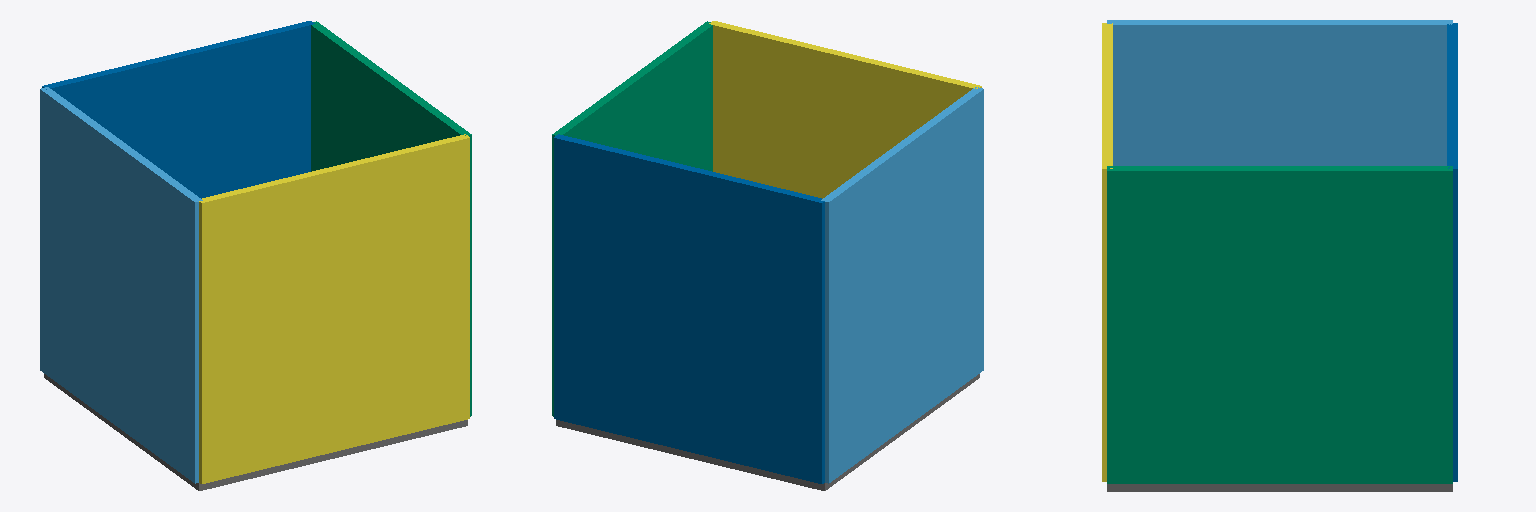
URDF robot description (container):
<?xml version="1.0"?>
<robot name="container">
  <!-- Base -->
  <link name="base">
    <visual>
      <origin xyz="0 0 -0.005"/>
      <geometry>
        <box size="0.32 0.32 0.01"/>
      </geometry>
      <material name="gray">
        <color rgba="0.5 0.5 0.5 1"/>
      </material>
    </visual>
    <collision>
      <origin xyz="0 0 -0.005"/>
      <geometry>
        <box size="0.32 0.32 0.01"/>
      </geometry>
    </collision>
    <inertial>
      <mass value="0.0"/>
      <inertia ixx="0" ixy="0" ixz="0" iyy="0" iyz="0" izz="0"/>
    </inertial>
  </link>

  <!-- Pared X- -->
  <link name="wall_x0">
    <visual>
      <origin xyz="-0.16 0 0.16"/>
      <geometry>
        <box size="0.01 0.32 0.32"/>
      </geometry>
    </visual>
    <collision>
      <origin xyz="-0.16 0 0.16"/>
      <geometry>
        <box size="0.01 0.32 0.32"/>
      </geometry>
    </collision>
    <inertial><mass value="0.0"/><inertia ixx="0" ixy="0" ixz="0" iyy="0" iyz="0" izz="0"/></inertial>
  </link>

  <!-- Pared X+ -->
  <link name="wall_x1">
    <visual>
      <origin xyz="0.16 0 0.16"/>
      <geometry>
        <box size="0.01 0.32 0.32"/>
      </geometry>
    </visual>
    <collision>
      <origin xyz="0.16 0 0.16"/>
      <geometry>
        <box size="0.01 0.32 0.32"/>
      </geometry>
    </collision>
    <inertial><mass value="0.0"/><inertia ixx="0" ixy="0" ixz="0" iyy="0" iyz="0" izz="0"/></inertial>
  </link>

  <!-- Pared Y- -->
  <link name="wall_y0">
    <visual>
      <origin xyz="0 -0.16 0.16"/>
      <geometry>
        <box size="0.32 0.01 0.32"/>
      </geometry>
    </visual>
    <collision>
      <origin xyz="0 -0.16 0.16"/>
      <geometry>
        <box size="0.32 0.01 0.32"/>
      </geometry>
    </collision>
    <inertial><mass value="0.0"/><inertia ixx="0" ixy="0" ixz="0" iyy="0" iyz="0" izz="0"/></inertial>
  </link>

  <!-- Pared Y+ -->
  <link name="wall_y1">
    <visual>
      <origin xyz="0 0.16 0.16"/>
      <geometry>
        <box size="0.32 0.01 0.32"/>
      </geometry>
    </visual>
    <collision>
      <origin xyz="0 0.16 0.16"/>
      <geometry>
        <box size="0.32 0.01 0.32"/>
      </geometry>
    </collision>
    <inertial><mass value="0.0"/><inertia ixx="0" ixy="0" ixz="0" iyy="0" iyz="0" izz="0"/></inertial>
  </link>

  <!-- Joints -->
  <joint name="joint_x0" type="fixed">
    <parent link="base"/>
    <child link="wall_x0"/>
  </joint>
  <joint name="joint_x1" type="fixed">
    <parent link="base"/>
    <child link="wall_x1"/>
  </joint>
  <joint name="joint_y0" type="fixed">
    <parent link="base"/>
    <child link="wall_y0"/>
  </joint>
  <joint name="joint_y1" type="fixed">
    <parent link="base"/>
    <child link="wall_y1"/>
  </joint>
</robot>

--- Facts derived from the render (not from the file) ---
Views: 3 orthographic renders of the robot side by side, from view 1: azimuth 30°, elevation 25°; view 2: azimuth 150°, elevation 25°; view 3: azimuth 270°, elevation 25°.
Model container with 5 links and 4 joints (4 fixed), rooted at base, posed every joint at zero.
Visible links, largest first — view 1: wall_y0, wall_x0, wall_y1, wall_x1, base; view 2: wall_y1, wall_x0, wall_y0, wall_x1, base; view 3: wall_x1, wall_x0, wall_y0, wall_y1, base.
Boxes of the visible links, box(x1,y1,x2,y2) form: wall_y0: box(199, 134, 469, 483); wall_x0: box(40, 87, 202, 483); wall_y1: box(42, 21, 314, 198); wall_x1: box(311, 21, 471, 416); base: box(44, 374, 467, 490); wall_y1: box(554, 134, 824, 483); wall_x0: box(821, 87, 983, 483); wall_y0: box(709, 21, 981, 198); wall_x1: box(552, 21, 712, 416); base: box(556, 374, 979, 490); wall_x1: box(1107, 166, 1452, 483); wall_x0: box(1107, 20, 1452, 165); wall_y0: box(1102, 23, 1112, 481); wall_y1: box(1447, 23, 1457, 481); base: box(1107, 484, 1452, 491).
Bounding box of the posed robot: 0.33 × 0.33 × 0.33 m (x, y, z).
Geometry: primitives only (box / cylinder / sphere), no mesh files.